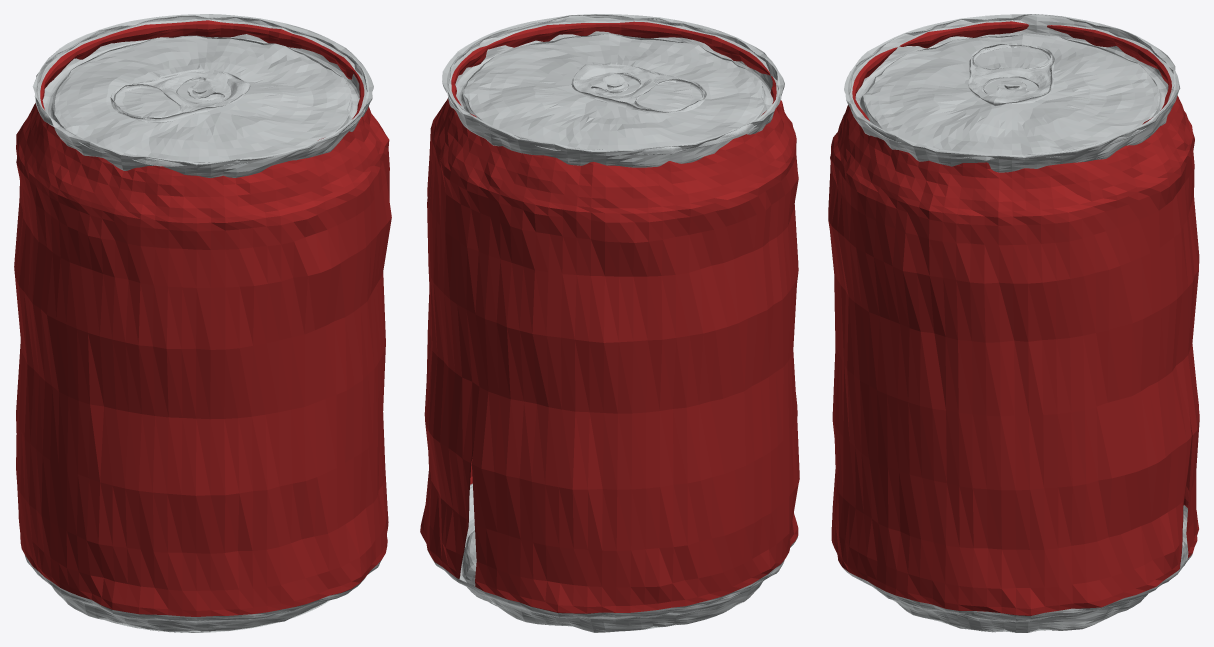
Rendered from crush_low_0.obj.
3 views of the same model, side by side, from view 1: azimuth 30°, elevation 25°; view 2: azimuth 150°, elevation 25°; view 3: azimuth 270°, elevation 25° (orthographic).
Parts seen in each view (by area): view 1: model; view 2: model; view 3: model.
Boxes of the visible parts, x1=… form: model: x1=14, y1=14, x2=391, y2=632; model: x1=420, y1=14, x2=799, y2=632; model: x1=828, y1=14, x2=1199, y2=632.
Bounding box in the file's own units: 0.0674 × 0.0966 × 0.0665.
1 material, 1 textured.
